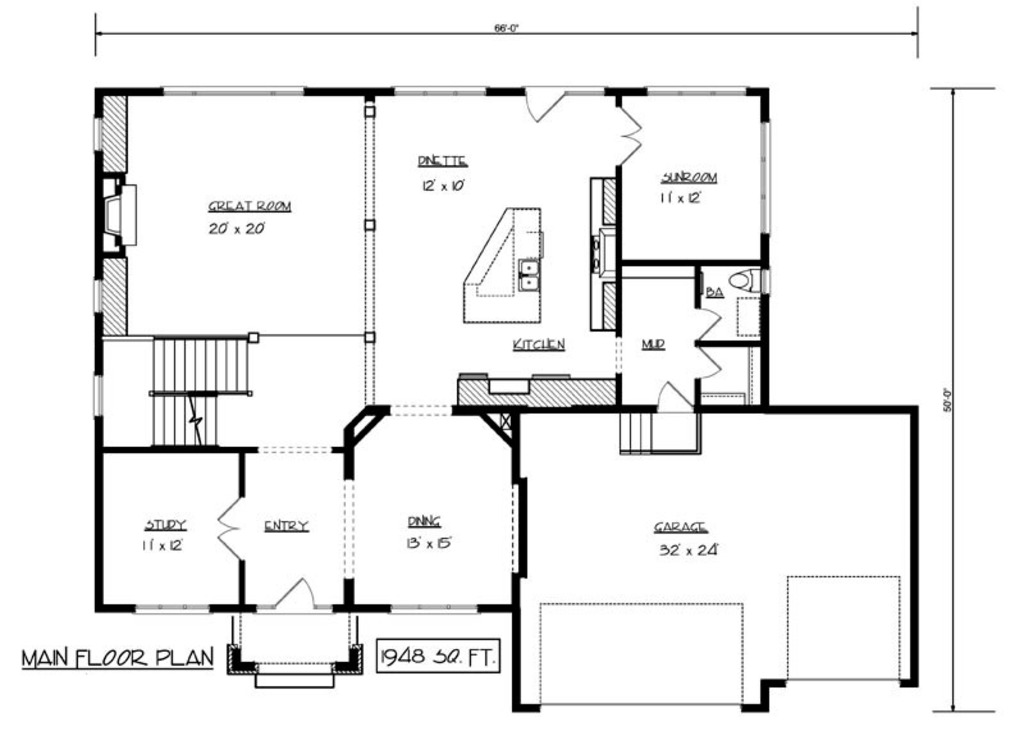door: (520, 81, 574, 132), (208, 497, 253, 557), (613, 96, 642, 168), (270, 578, 324, 612), (691, 342, 727, 384), (650, 380, 690, 409), (696, 303, 720, 338)
kitchen_bar: (442, 189, 556, 333)
large_sink: (726, 263, 772, 295)
stairs: (136, 330, 279, 452)
twin_sink: (516, 253, 542, 295)
window: (160, 81, 308, 97), (646, 80, 756, 101), (758, 116, 774, 237), (390, 80, 486, 98), (82, 119, 113, 156), (92, 374, 114, 418), (89, 272, 110, 309)
